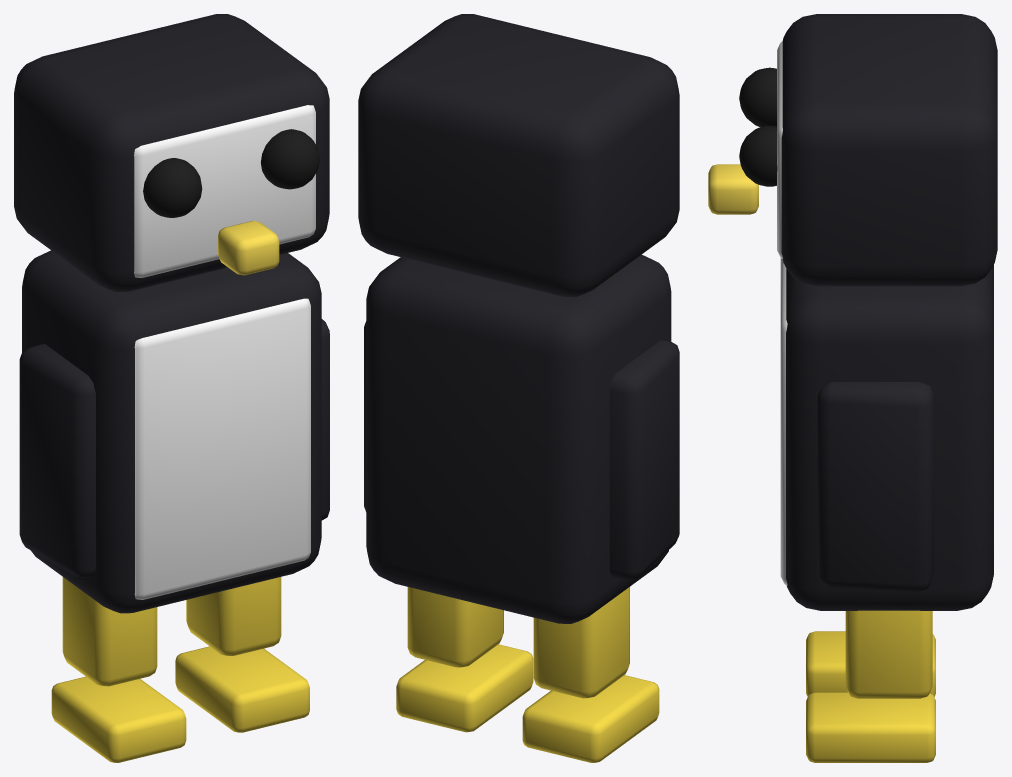
Rendered from Penguin_Classic.glb.
The picture shows the model from 3 angles, left to right: view 1: azimuth 30°, elevation 25°; view 2: azimuth 150°, elevation 25°; view 3: azimuth 270°, elevation 25°; orthographic projection.
Parts seen in each view (by area): view 1: Penguin_Classic; view 2: Penguin_Classic; view 3: Penguin_Classic.
Boxes of the visible parts, left/top/right/bottom form: Penguin_Classic: left=14, top=14, right=329, bottom=762; Penguin_Classic: left=358, top=14, right=679, bottom=762; Penguin_Classic: left=708, top=14, right=997, bottom=762.
Bounding box in the file's own units: 0.8797 × 2 × 0.8.
